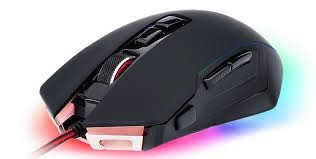mouse: (23, 3, 295, 157)
